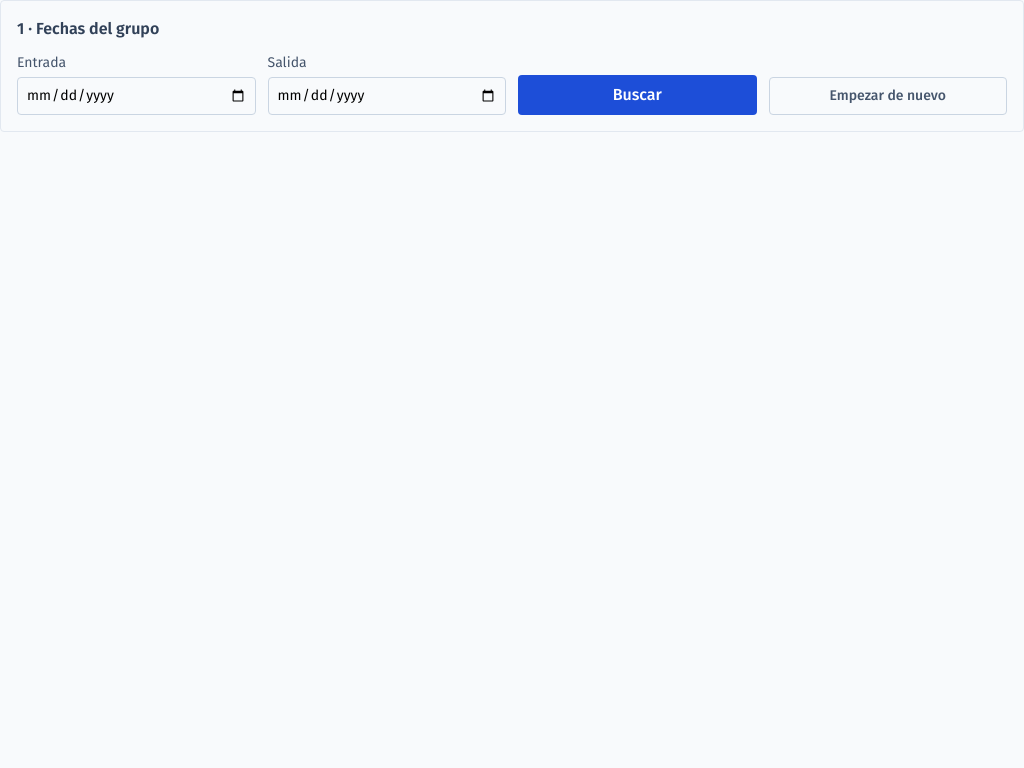
BulkReservation — modalidad de pago (R9.1, R9.2, decisión #339) › oculta el selector de modalidad de pago para role=reception
Type "2026-10-01" into the date field labelled "Entrada". click: (136, 96)
box: [17,77,256,115]
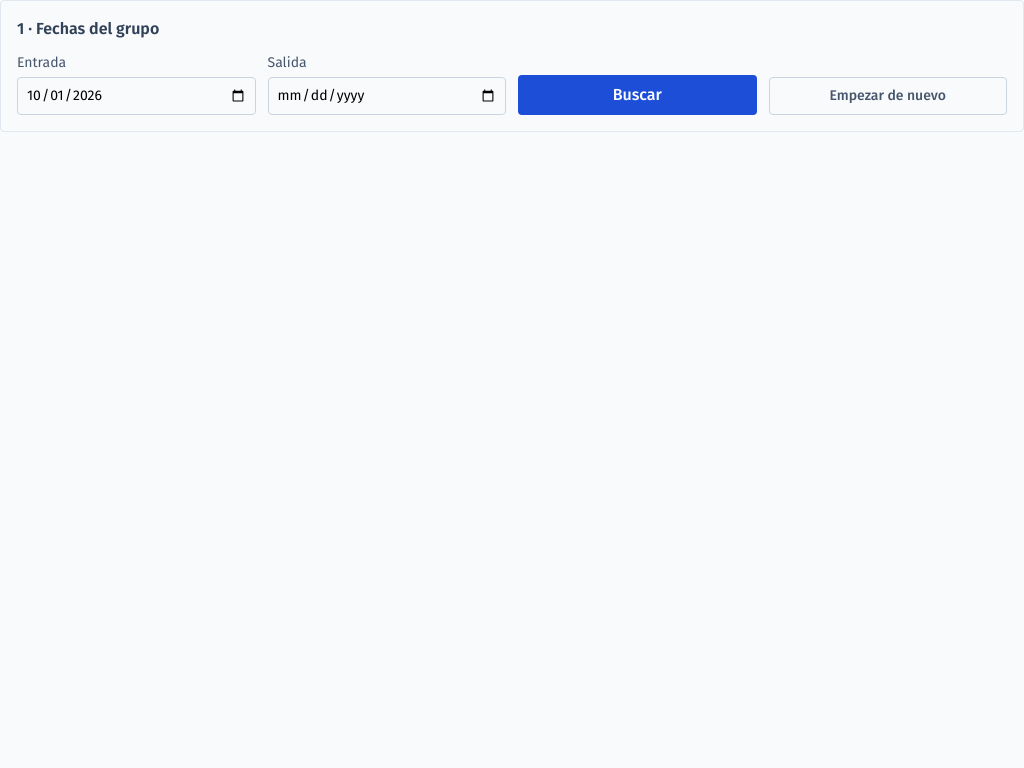
Type "2026-10-03" into the date field labelled "Salida". click: (387, 96)
box: [268,77,506,115]
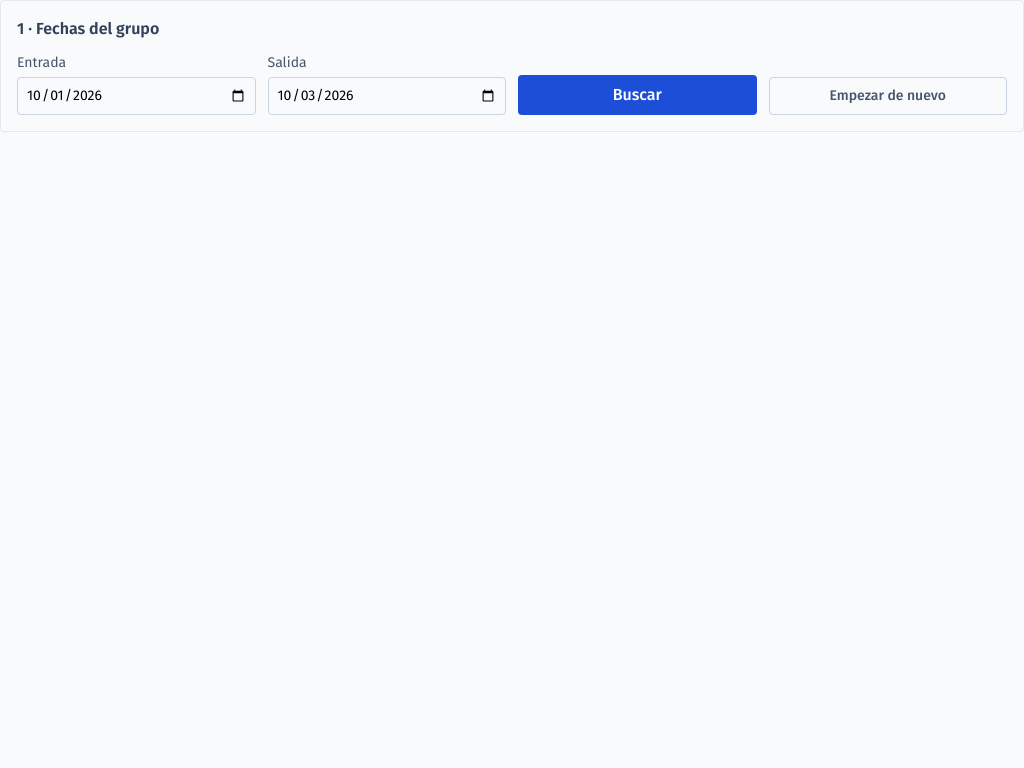
Click the button "Buscar". click: (637, 95)
box: [518,75,756,115]
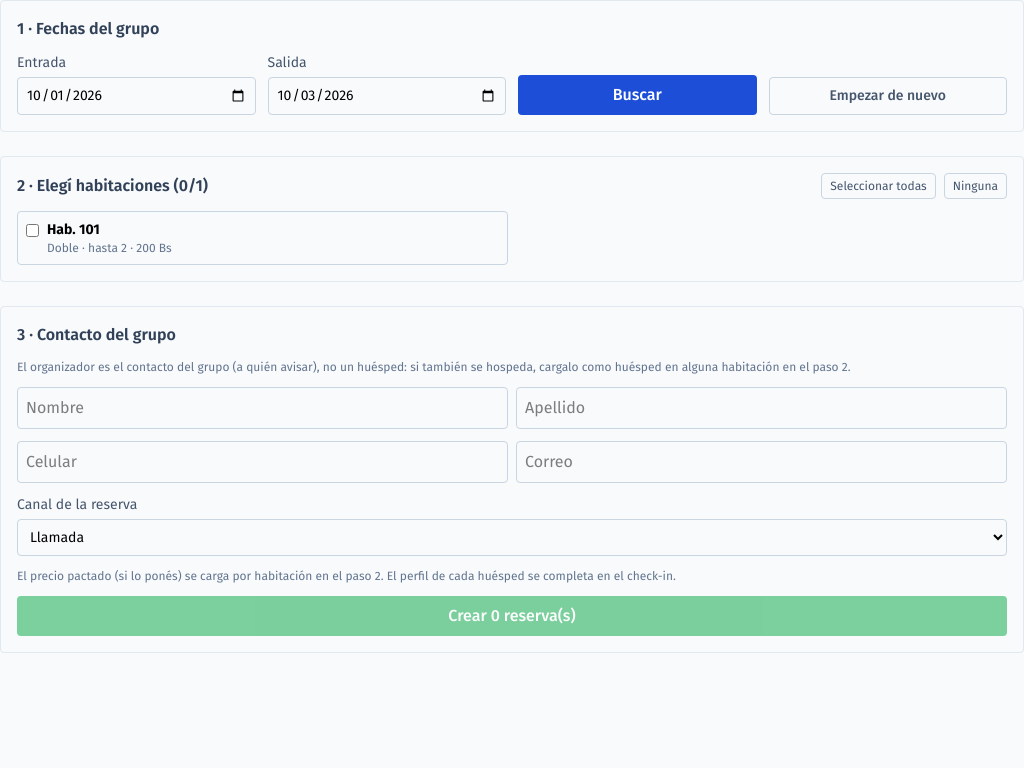
Check: the text "Hab. 101" is shown, box [47,221,100,238]
